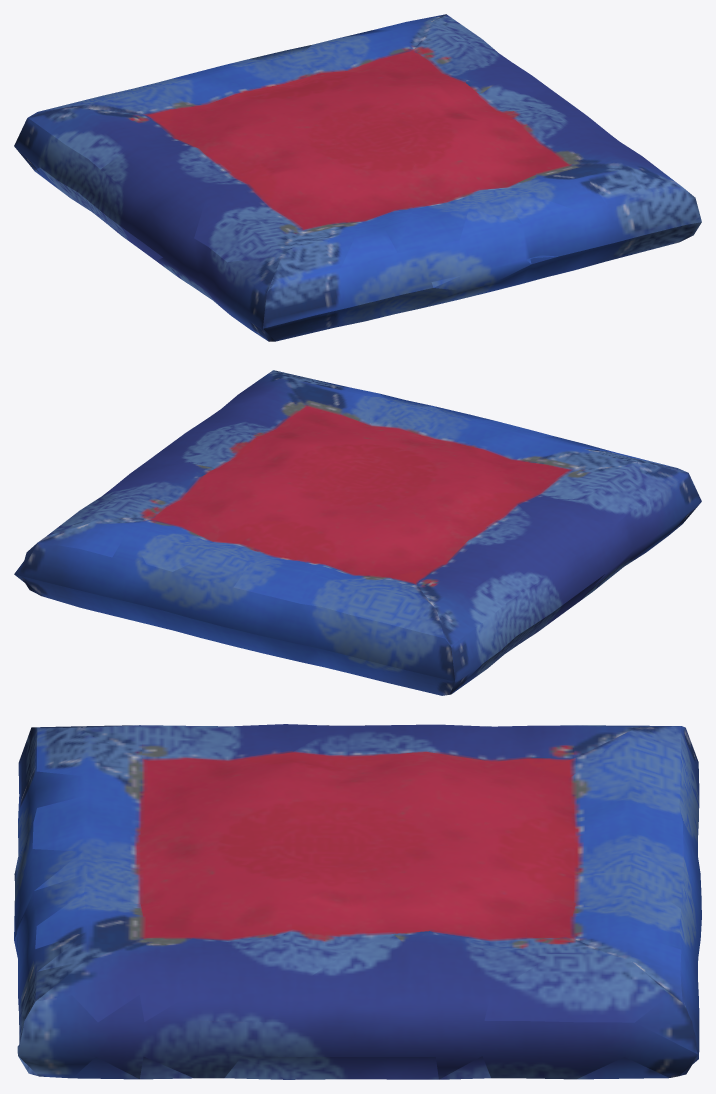
Rendered from room_zabuton.glb.
The picture shows the model from 3 angles, top to bottom: view 1: azimuth 30°, elevation 25°; view 2: azimuth 150°, elevation 25°; view 3: azimuth 270°, elevation 25°; orthographic projection. The views are drawn at different scales.
Visible parts, largest first — view 1: mesh; view 2: mesh; view 3: mesh.
Part boxes in pixels (bbox=[...]): mesh: bbox=[14, 14, 701, 341]; mesh: bbox=[14, 370, 701, 695]; mesh: bbox=[14, 724, 701, 1079].
Size of the model in its own units: 0.4209 by 0.09 by 0.4114.
Materials: 1 (1 with a texture image).
